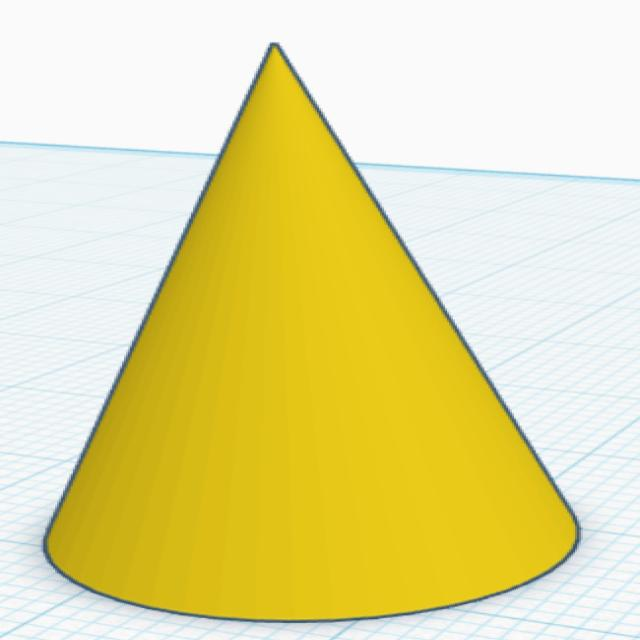cone: (32, 39, 591, 626)
